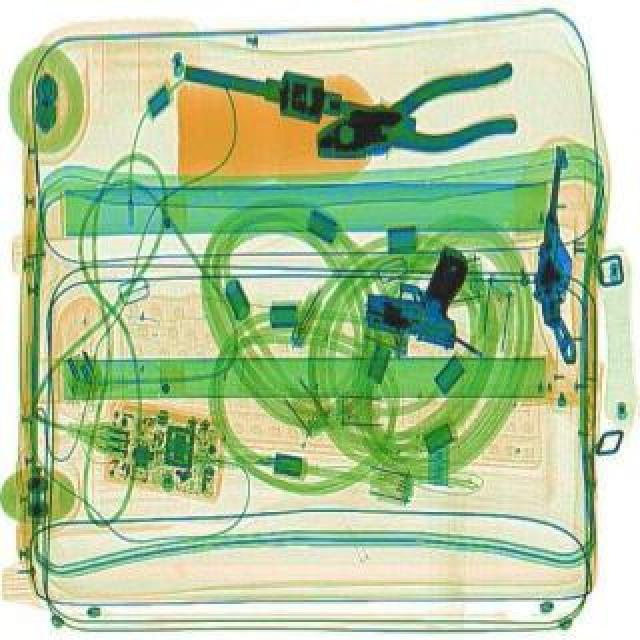gun: (520, 142, 610, 364), (358, 230, 478, 348)
wrench: (304, 62, 528, 176)
